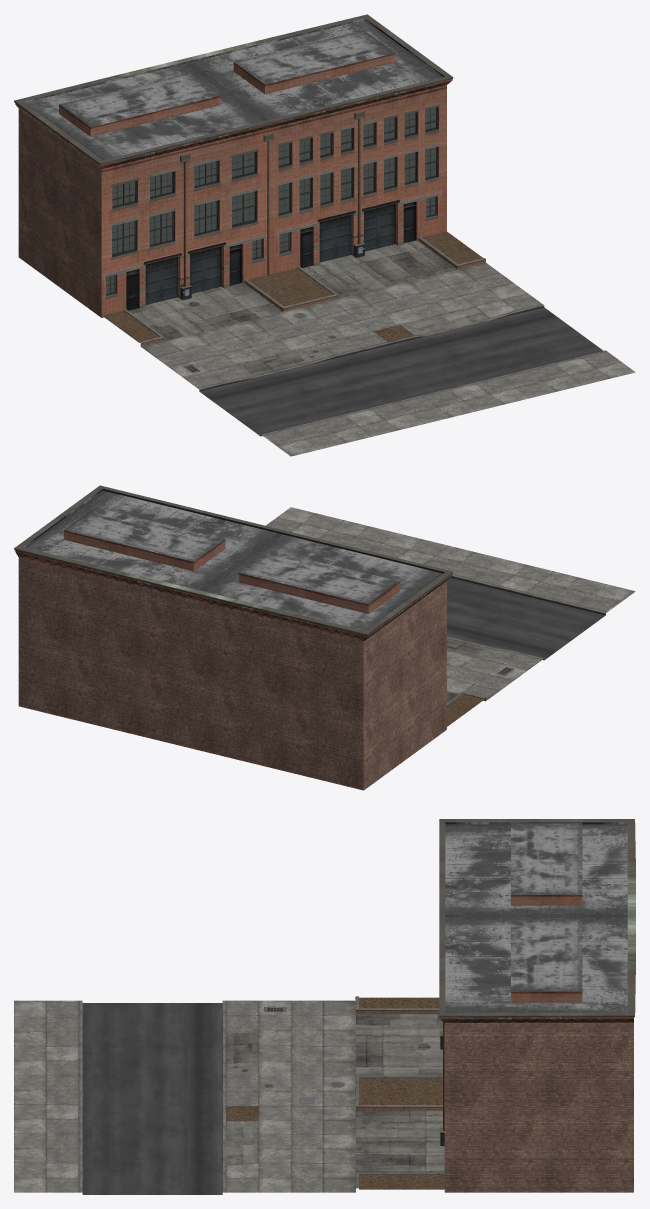
The model's file is building_rowhouse.glb.
3 renders of one model, top to bottom at view 1: azimuth 30°, elevation 25°; view 2: azimuth 150°, elevation 25°; view 3: azimuth 270°, elevation 25°, orthographic. The views are drawn at different scales.
Visible parts, largest first — view 1: main.006_Building_0, Road.006_Sidewalk_0, main.008_Rooftops_0, Road.002_Road_0, main.002_Generic_Bricks_0, Road.009_Pathway_Tiles_0, main.007_Glass_0, main.013_Dirt_0; view 2: main.002_Generic_Bricks_0, main.008_Rooftops_0, Road.006_Sidewalk_0, main.006_Building_0, Road.002_Road_0, main.013_Dirt_0, Road.009_Pathway_Tiles_0; view 3: Road.006_Sidewalk_0, main.008_Rooftops_0, main.002_Generic_Bricks_0, Road.002_Road_0, Road.009_Pathway_Tiles_0, main.006_Building_0, main.013_Dirt_0.
Boxes of the visible parts, bbox=[...] form: main.006_Building_0: bbox=[14, 14, 485, 346]; Road.006_Sidewalk_0: bbox=[141, 262, 635, 456]; main.008_Rooftops_0: bbox=[23, 18, 444, 159]; Road.002_Road_0: bbox=[199, 307, 603, 435]; main.002_Generic_Bricks_0: bbox=[18, 109, 101, 317]; Road.009_Pathway_Tiles_0: bbox=[128, 240, 489, 376]; main.007_Glass_0: bbox=[106, 108, 435, 293]; main.013_Dirt_0: bbox=[102, 231, 482, 342]; main.002_Generic_Bricks_0: bbox=[18, 557, 446, 790]; main.008_Rooftops_0: bbox=[23, 489, 444, 630]; Road.006_Sidewalk_0: bbox=[266, 507, 635, 700]; main.006_Building_0: bbox=[14, 485, 485, 705]; Road.002_Road_0: bbox=[447, 577, 605, 659]; main.013_Dirt_0: bbox=[447, 694, 484, 726]; Road.009_Pathway_Tiles_0: bbox=[447, 638, 485, 702]; Road.006_Sidewalk_0: bbox=[14, 1000, 355, 1192]; main.008_Rooftops_0: bbox=[445, 822, 627, 1012]; main.002_Generic_Bricks_0: bbox=[444, 1023, 633, 1192]; Road.002_Road_0: bbox=[82, 1003, 222, 1194]; Road.009_Pathway_Tiles_0: bbox=[226, 1014, 444, 1172]; main.006_Building_0: bbox=[355, 819, 635, 1188]; main.013_Dirt_0: bbox=[226, 997, 444, 1189].
Bounding box in the file's own units: 130 × 58.87 × 174.
Materials: 9 (9 with a texture image).
